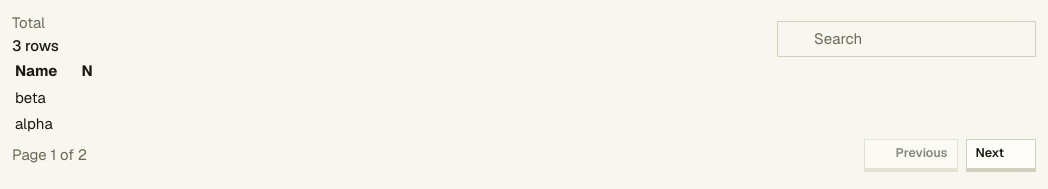
table › pages hold size rows each
This screenshot has width=1048, height=189.
Expected: the text "Page 1 of 2" is shown, [12,144,87,166]
Click the button "Next". click: x=1001, y=154
box: [966,138,1036,168]
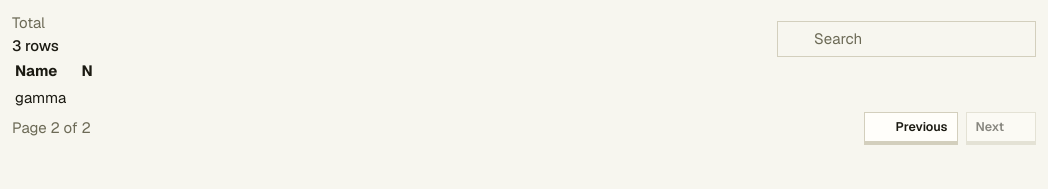
Now the button "Next" is disabled, box [966,112,1036,142]
